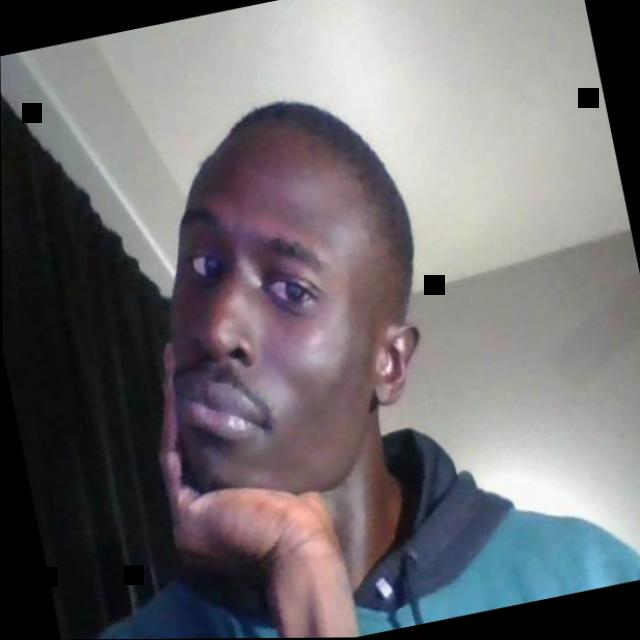NO-Mask: (127, 141, 410, 519)
